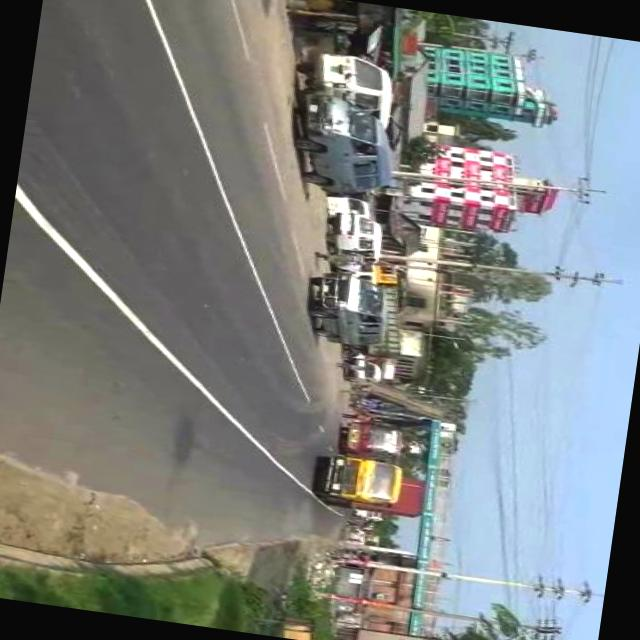bus: (334, 421, 408, 465)
truck: (278, 89, 401, 206), (310, 451, 436, 525), (301, 268, 397, 356)
